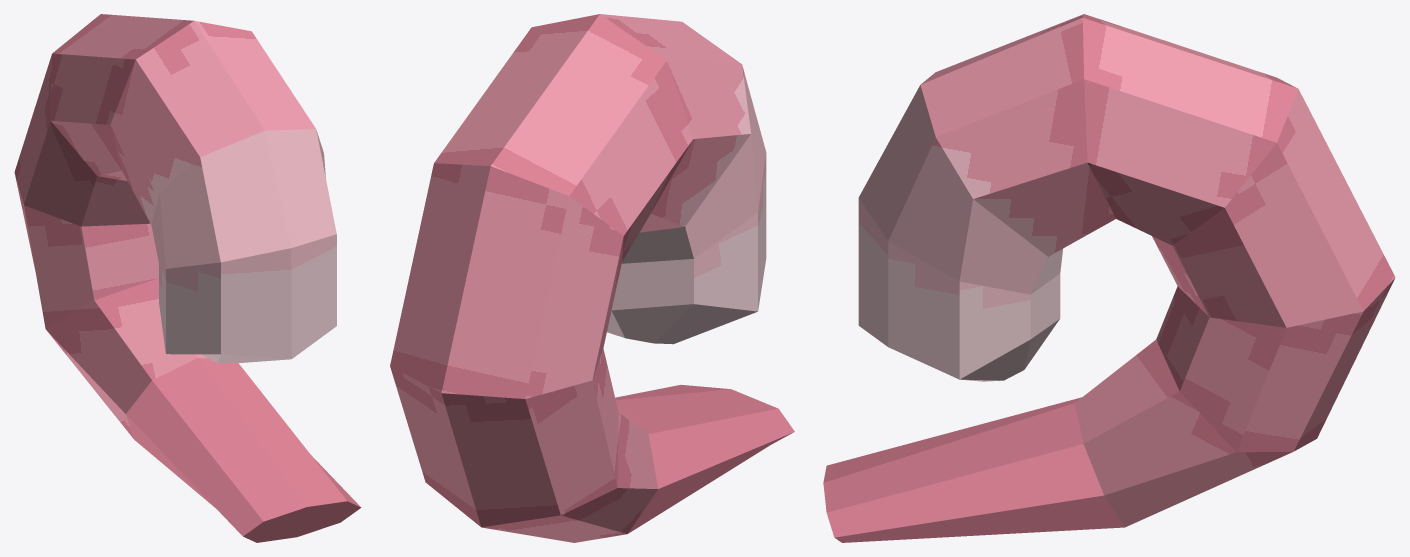
The model's file is camaron.glb.
3 views of the same model, side by side, from view 1: azimuth 30°, elevation 25°; view 2: azimuth 150°, elevation 25°; view 3: azimuth 270°, elevation 25° (orthographic). The views are drawn at different scales.
Visible parts, largest first — view 1: torus; view 2: torus; view 3: torus.
Boxes of the visible parts, bbox=[...] form: torus: bbox=[14, 14, 361, 542]; torus: bbox=[390, 14, 794, 542]; torus: bbox=[823, 14, 1395, 542].
Size of the model in its own units: 0.2706 by 0.6951 by 0.7097.
1 material, 1 textured.
